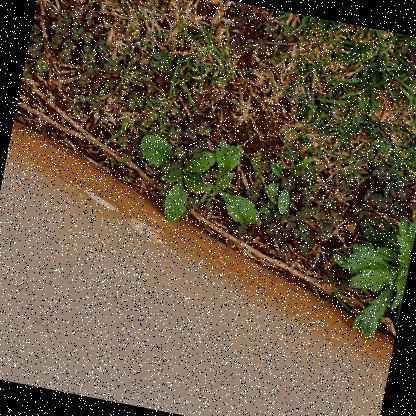Weeds: (320, 205, 415, 348), (179, 134, 277, 233), (126, 128, 219, 229)
